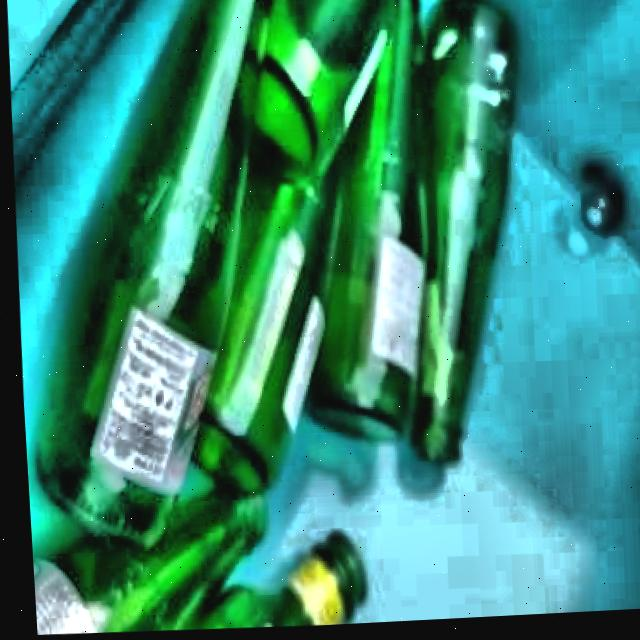glass: (26, 0, 516, 634)
